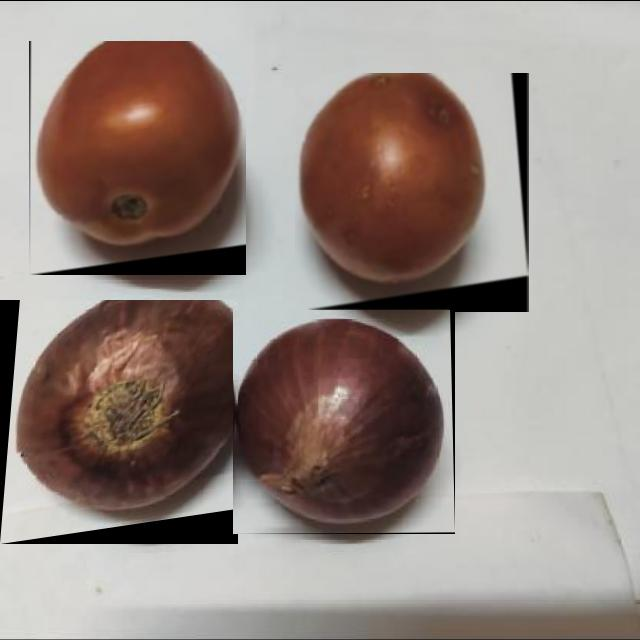onion: (0, 299, 238, 543), (233, 309, 455, 533)
tomato: (296, 72, 530, 311), (29, 40, 246, 274)
